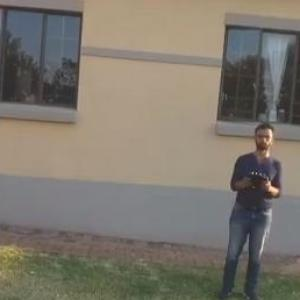follow: (213, 118, 285, 298)
